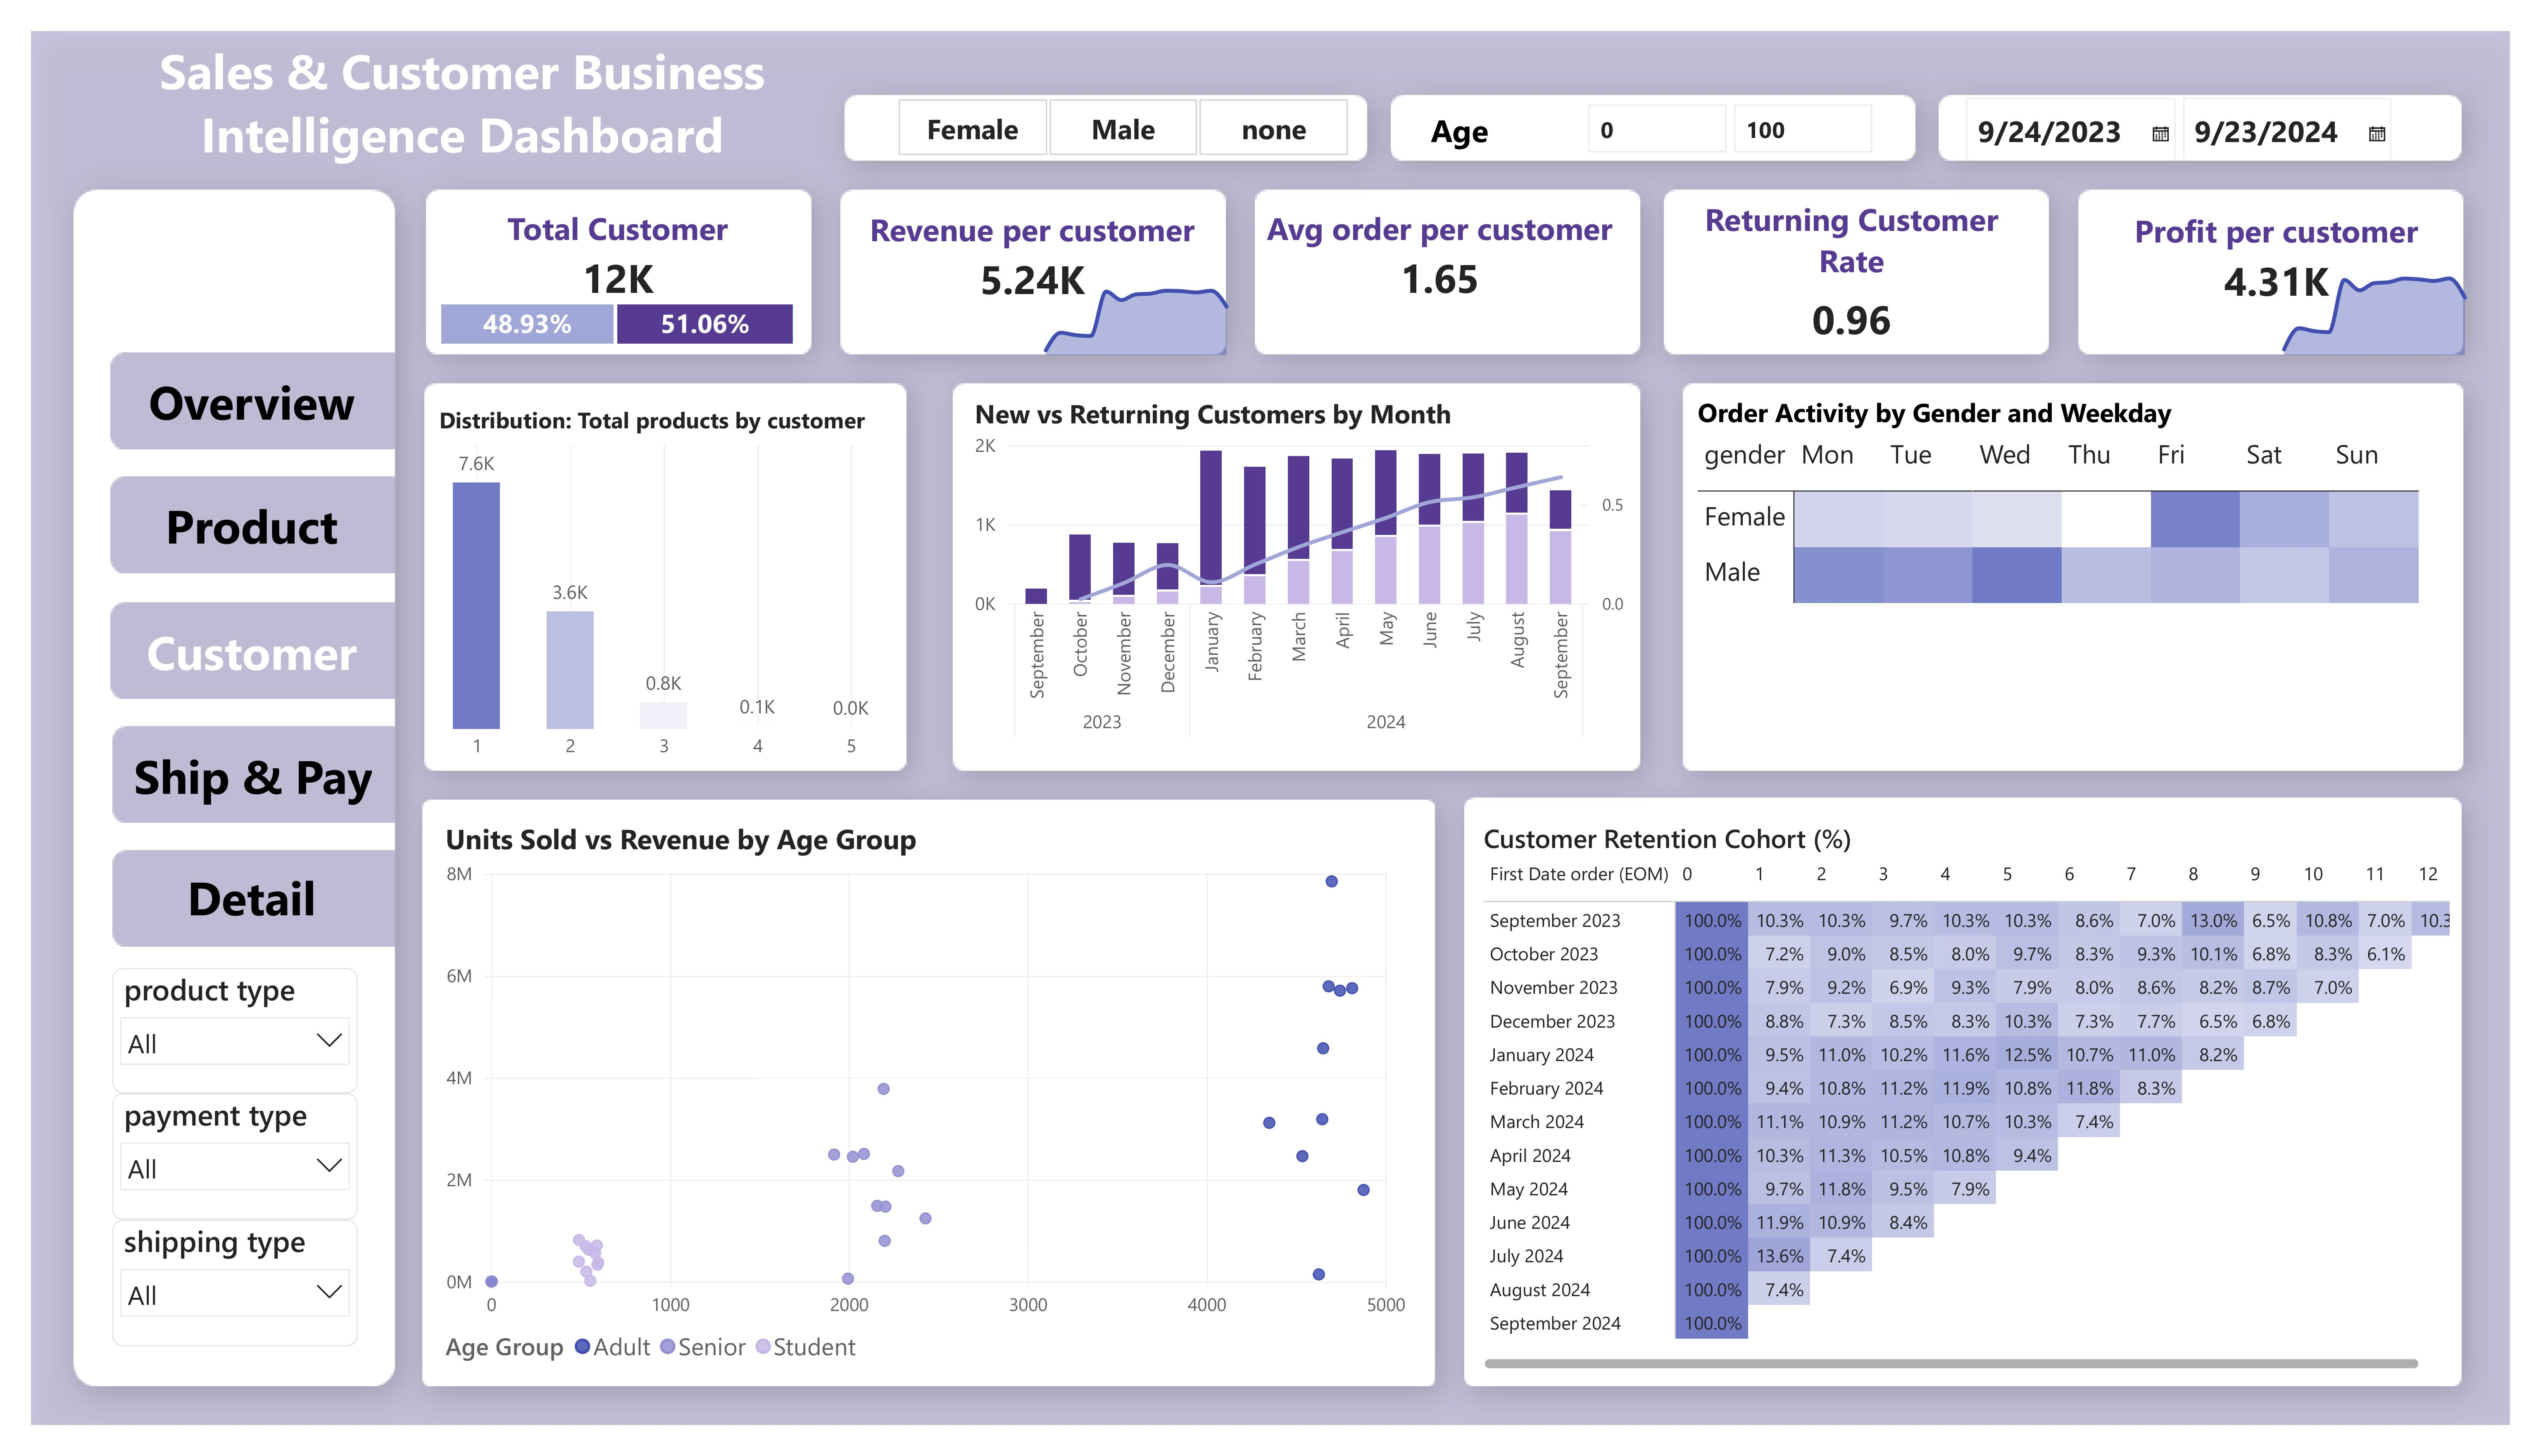

This screenshot's page, from the dashboard's own definition file:
{"tool":"powerbi","page":{"name":"Customer Analytics","canvas":[1920,1080],"ordinal":2},"visuals":[{"type":"cardVisual","fields":{"Data":["*Measure.total customer"]},"box":[336.6,117.6,235.3,110.4],"z":0},{"type":"cardVisual","fields":{"Data":["*Measure.revenue per customer"]},"box":[626.1,108.6,298.6,130.3],"z":1000},{"type":"cardVisual","title":"Returning Customer Rate","fields":{"Data":["*Measure.Returning Customer Rate"]},"box":[1275,129.1,270.3,120.3],"z":2000},{"type":"cardVisual","fields":{"Data":["*Measure.Profit per customer"]},"box":[1579.8,108.6,318.5,132.1],"z":3000},{"type":"actionButton","box":[76,255.2,190,63.3],"z":4000},{"type":"actionButton","box":[76,351.1,190,63.3],"z":5000},{"type":"actionButton","box":[76,448.8,190,63.3],"z":6000},{"type":"actionButton","box":[62.8,544.2,218,64.5],"z":7000},{"type":"slicer","fields":{"Values":["dim_calendar.Date"]},"box":[1491.2,47.1,371,52],"z":8000},{"type":"slicer","fields":{"Values":["dim_product.product type"]},"box":[63.3,725.7,190,97.7],"z":9000},{"type":"slicer","fields":{"Values":["dim_payment.payment type"]},"box":[63.3,823.4,190,97.7],"z":10000},{"type":"slicer","fields":{"Values":["dim_shipping.shipping type"]},"box":[63.3,921.1,190,97.7],"z":11000},{"type":"slicer","fields":{"Values":["dim_customer.age"]},"box":[1198,52.5,244.3,41.6],"z":12000},{"type":"textbox","box":[1084,59.7,74.2,34.4],"z":13000},{"type":"slicer","fields":{"Values":["dim_customer.gender"]},"box":[651.5,50.7,387.3,47],"z":14000},{"type":"actionButton","box":[76,638.8,190,63.3],"z":15000},{"type":"hundredPercentStackedBarChart","fields":{"Series":["dim_customer.gender"],"Y":["*Measure.total customer"]},"box":[302.2,150.2,304,150.2],"z":16000},{"type":"cardVisual","fields":{"Data":["Avg(dim_customer.total orders)"]},"box":[930.2,128.5,322.1,90.5],"z":17000},{"type":"clusteredColumnChart","title":"Distribution: Total products by customer","fields":{"Category":["dim_customer.Total products"],"Y":["*Measure.total customer"]},"box":[300.4,275.1,380,309.5],"z":18000},{"type":"lineStackedColumnComboChart","title":"New vs Returning Customers by Month","fields":{"Category":["dim_calendar.Date.Variation.Date Hierarchy.Year","dim_calendar.Date.Variation.Date Hierarchy.Month"],"Y":["*Measure.Returning Customers","*Measure.New Customers"],"Y2":["*Measure.Returning Customer Rate"]},"box":[714.8,267.8,537.5,302.2],"z":19000},{"type":"scatterChart","title":"Units Sold vs Revenue by Age Group","fields":{"Category":["dim_product.product id"],"Series":["dim_customer.Age Group"],"X":["*Measure.Unit Sold"],"Y":["*Measure.revenue1"]},"box":[305.2,596.5,776.2,455.2],"z":20000},{"type":"pivotTable","title":"Order Activity by Gender and Weekday","fields":{"Columns":["dim_calendar.Short Dayname"],"Rows":["dim_customer.gender"],"Values":["*Measure.count orders"]},"box":[1275,266.9,613.5,302.2],"z":21000},{"type":"pivotTable","title":"Customer Retention Cohort (%)","fields":{"Columns":["month_after.Value"],"Rows":["dim_customer.First Date order (EOM)"],"Values":["*Measure.M_customer_retention_rate"]},"box":[1109.3,597.2,780,456],"z":22000},{"type":"lineChart","title":"Average of rating over time","fields":{"Category":["dim_calendar.Date.Variation.Date Hierarchy.Year","dim_calendar.Date.Variation.Date Hierarchy.Month"],"Y":["*Measure.Profit per customer"]},"box":[1719.2,150.2,191.8,117.6],"z":23000},{"type":"lineChart","title":"Average of rating over time","fields":{"Category":["dim_calendar.Date.Variation.Date Hierarchy.Year","dim_calendar.Date.Variation.Date Hierarchy.Month"],"Y":["*Measure.revenue per customer"]},"box":[760.1,173.7,191.8,94.1],"z":24000},{"type":"textbox","box":[41.9,5.2,584.6,106],"z":25000}]}

Visuals, with their boxes on the page's 1920x1080 design canvas (x1, y1, x2, y2). These are canvas units, not pixel positions in the 2541x1456 screenshot, which may show the page scaled, cropped or inside an application window:
cardVisual - *Measure.total customer: crop(337, 118, 572, 228)
cardVisual - *Measure.revenue per customer: crop(626, 109, 925, 239)
"Returning Customer Rate" cardVisual: crop(1275, 129, 1545, 249)
cardVisual - *Measure.Profit per customer: crop(1580, 109, 1898, 241)
actionButton: crop(76, 255, 266, 318)
actionButton: crop(76, 351, 266, 414)
actionButton: crop(76, 449, 266, 512)
actionButton: crop(63, 544, 281, 609)
slicer - dim_calendar.Date: crop(1491, 47, 1862, 99)
slicer - dim_product.product type: crop(63, 726, 253, 823)
slicer - dim_payment.payment type: crop(63, 823, 253, 921)
slicer - dim_shipping.shipping type: crop(63, 921, 253, 1019)
slicer - dim_customer.age: crop(1198, 52, 1442, 94)
textbox: crop(1084, 60, 1158, 94)
slicer - dim_customer.gender: crop(652, 51, 1039, 98)
actionButton: crop(76, 639, 266, 702)
hundredPercentStackedBarChart - dim_customer.gender x *Measure.total customer: crop(302, 150, 606, 300)
cardVisual - Avg(dim_customer.total orders): crop(930, 128, 1252, 219)
"Distribution: Total products by customer" clusteredColumnChart: crop(300, 275, 680, 585)
"New vs Returning Customers by Month" lineStackedColumnComboChart: crop(715, 268, 1252, 570)
"Units Sold vs Revenue by Age Group" scatterChart: crop(305, 596, 1081, 1052)
"Order Activity by Gender and Weekday" pivotTable: crop(1275, 267, 1888, 569)
"Customer Retention Cohort (%)" pivotTable: crop(1109, 597, 1889, 1053)
"Average of rating over time" lineChart: crop(1719, 150, 1911, 268)
"Average of rating over time" lineChart: crop(760, 174, 952, 268)
textbox: crop(42, 5, 626, 111)
